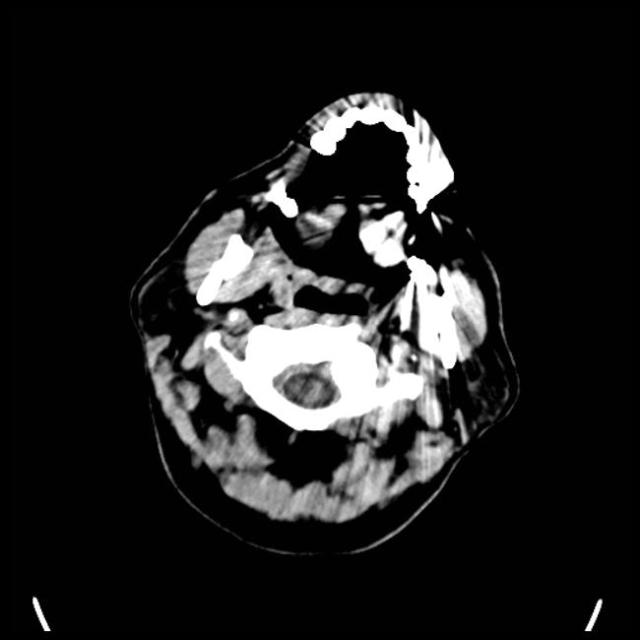lesion: (126, 86, 524, 552)
